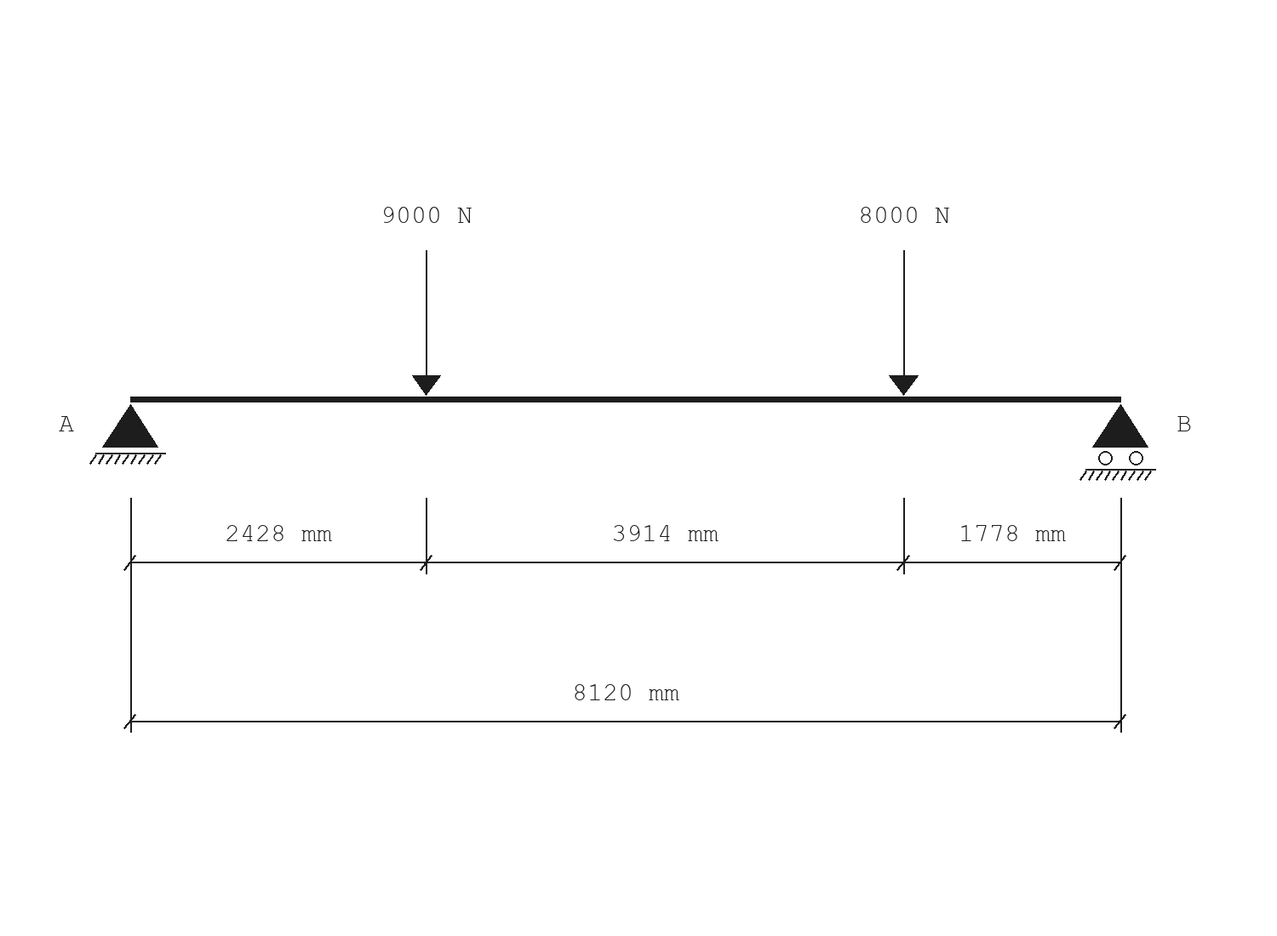pin_support: (89, 404, 166, 465)
point_load: (889, 250, 919, 396), (412, 250, 441, 396)
roller_support: (1079, 404, 1156, 481)
